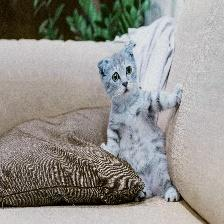kedo: (97, 43, 182, 202)
